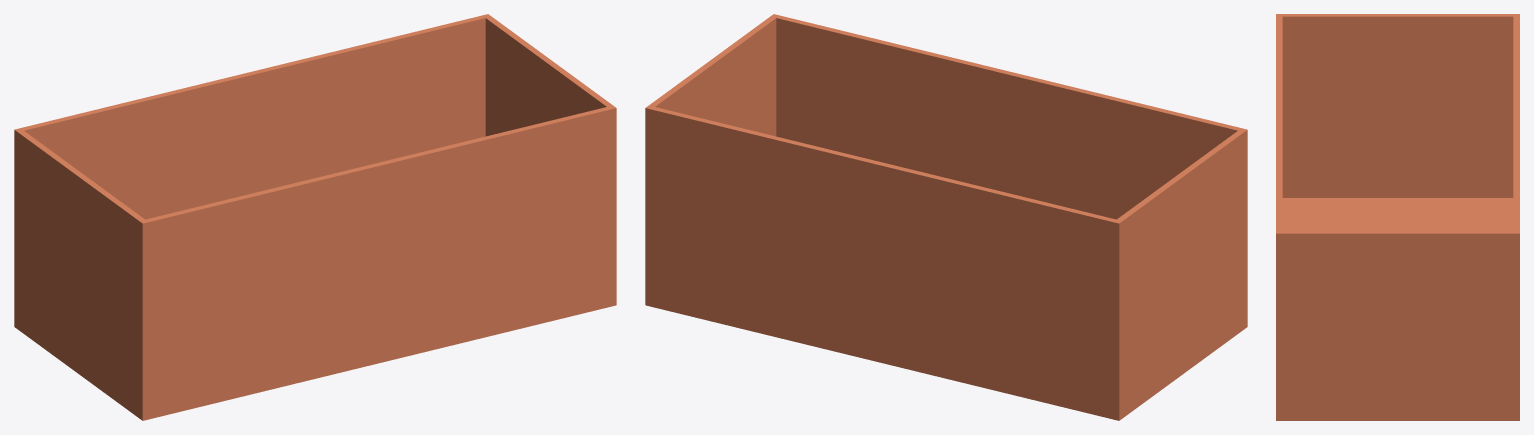
File: bottom shelf.fbx
3 renders of one model, left to right at view 1: azimuth 30°, elevation 25°; view 2: azimuth 150°, elevation 25°; view 3: azimuth 270°, elevation 25°, orthographic. The views are drawn at different scales.
Visible parts, largest first — view 1: bottom; view 2: bottom; view 3: bottom.
Part boxes in pixels (x1=…): bottom: x1=14, y1=14, x2=616, y2=420; bottom: x1=645, y1=14, x2=1247, y2=420; bottom: x1=1276, y1=14, x2=1519, y2=420.
Size of the model in its own units: 3.89 by 1.55 by 1.83.
